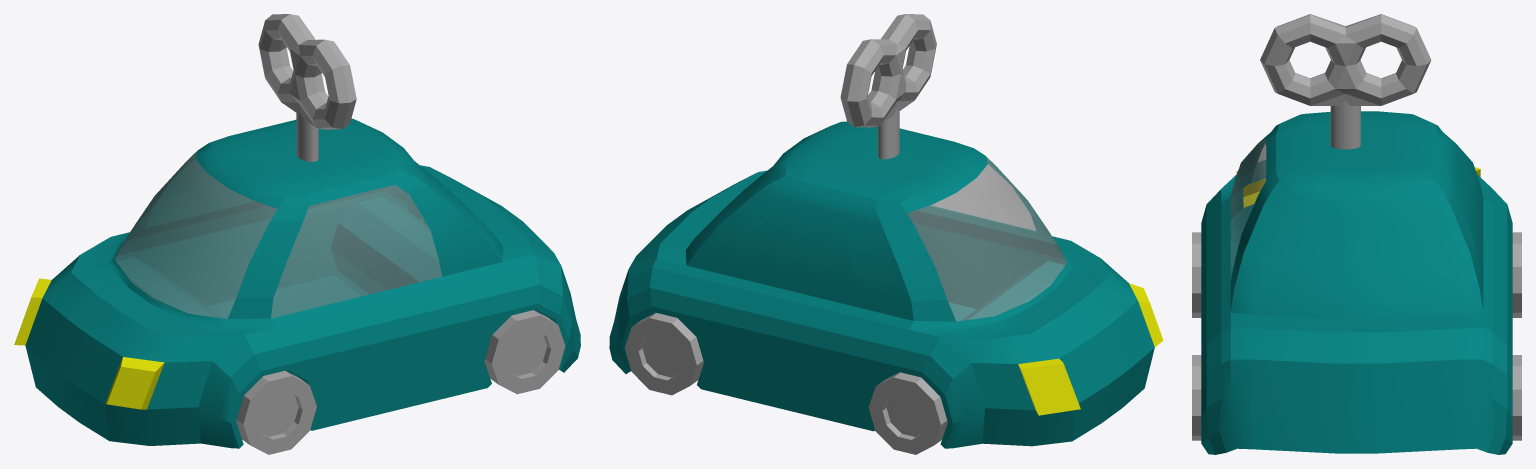
The model's file is Coche.fbx.
The picture shows the model from 3 angles, left to right: view 1: azimuth 30°, elevation 25°; view 2: azimuth 150°, elevation 25°; view 3: azimuth 270°, elevation 25°; orthographic projection. The views are drawn at different scales.
Visible parts, largest first — view 1: coche; view 2: coche; view 3: coche.
Boxes of the visible parts, bbox=[...] form: coche: bbox=[14, 14, 580, 454]; coche: bbox=[609, 14, 1163, 454]; coche: bbox=[1192, 14, 1521, 454].
Bounding box in the file's own units: 58.16 × 40.01 × 34.27.
